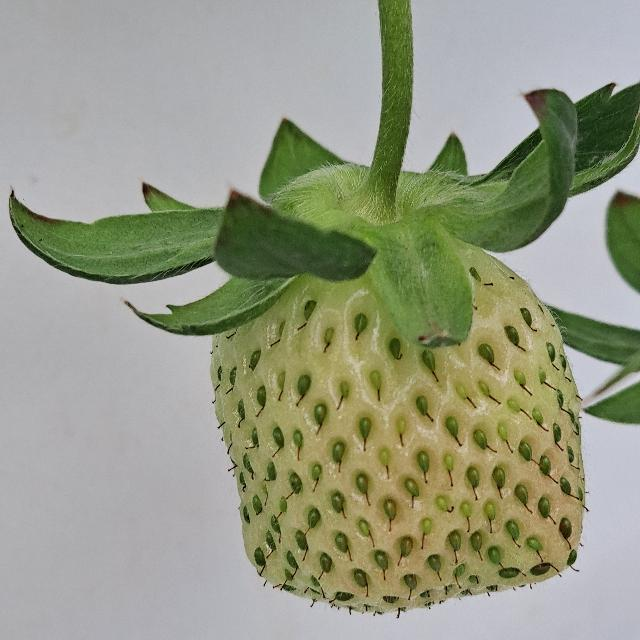Health_25: (210, 234, 584, 614)
